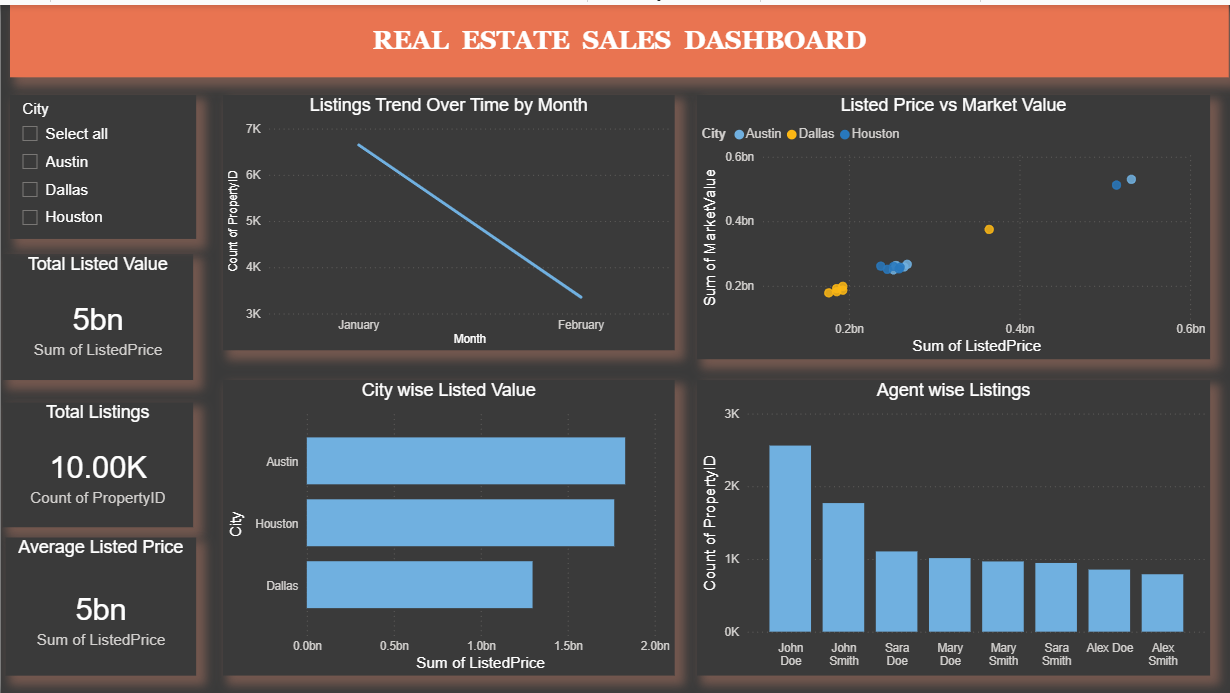

The page's visual inventory and layout, read from the dashboard file:
{"tool":"powerbi","page":{"name":"Page 2","canvas":[1280,720],"ordinal":6},"visuals":[{"type":"textbox","box":[10,0,1270,75],"z":0},{"type":"card","title":"Total Listed Value","fields":{"Values":["Sum(Properties.ListedPrice)"]},"box":[1.6,259.5,198.5,131.3],"z":1000},{"type":"card","title":"Total Listings","fields":{"Values":["CountNonNull(Properties.PropertyID)"]},"box":[1.6,414.2,198.5,129.7],"z":2000},{"type":"card","title":"Average Listed Price","fields":{"Values":["Sum(Properties.ListedPrice)"]},"box":[4.7,554.9,198.5,143.8],"z":3000},{"type":"clusteredBarChart","title":"City wise Listed Value","fields":{"Category":["Neighborhoods.City"],"Y":["Sum(Properties.ListedPrice)"]},"box":[231.3,390.7,470.5,307.9],"z":4000},{"type":"clusteredColumnChart","title":"Agent wise Listings","fields":{"Category":["Agents.Full Name"],"Y":["CountNonNull(Properties.PropertyID)"]},"box":[725.2,390.7,534.5,307.9],"z":5000},{"type":"lineChart","title":"Listings Trend Over Time by Month","fields":{"Y":["CountNonNull(Properties.PropertyID)"],"Category":["Properties.ListingDate.Variation.Date Hierarchy.Month","Properties.ListingDate.Variation.Date Hierarchy.Day"]},"box":[231.3,93.8,470.5,265.7],"z":6000},{"type":"scatterChart","title":"Listed Price vs Market Value","fields":{"X":["Sum(Properties.ListedPrice)"],"Y":["Sum(Properties.MarketValue)"],"Category":["Properties.Property Name"],"Series":["Neighborhoods.City"]},"box":[725.2,93.8,534.5,275.1],"z":7000},{"type":"slicer","fields":{"Values":["Neighborhoods.City"]},"box":[9.4,93.8,193.8,150],"z":8000}]}

Visuals, with their boxes in screenshot pixels (x1, y1, x2, y2), scaled from the page's 1280x720 canvas onto the 1230x693 screenshot:
textbox: 10/0/1229/72
"Total Listed Value" card: 2/250/192/376
"Total Listings" card: 2/399/192/524
"Average Listed Price" card: 5/534/195/672
"City wise Listed Value" clusteredBarChart: 222/376/674/672
"Agent wise Listings" clusteredColumnChart: 697/376/1210/672
"Listings Trend Over Time by Month" lineChart: 222/90/674/346
"Listed Price vs Market Value" scatterChart: 697/90/1210/355
slicer - Neighborhoods.City: 9/90/195/235
